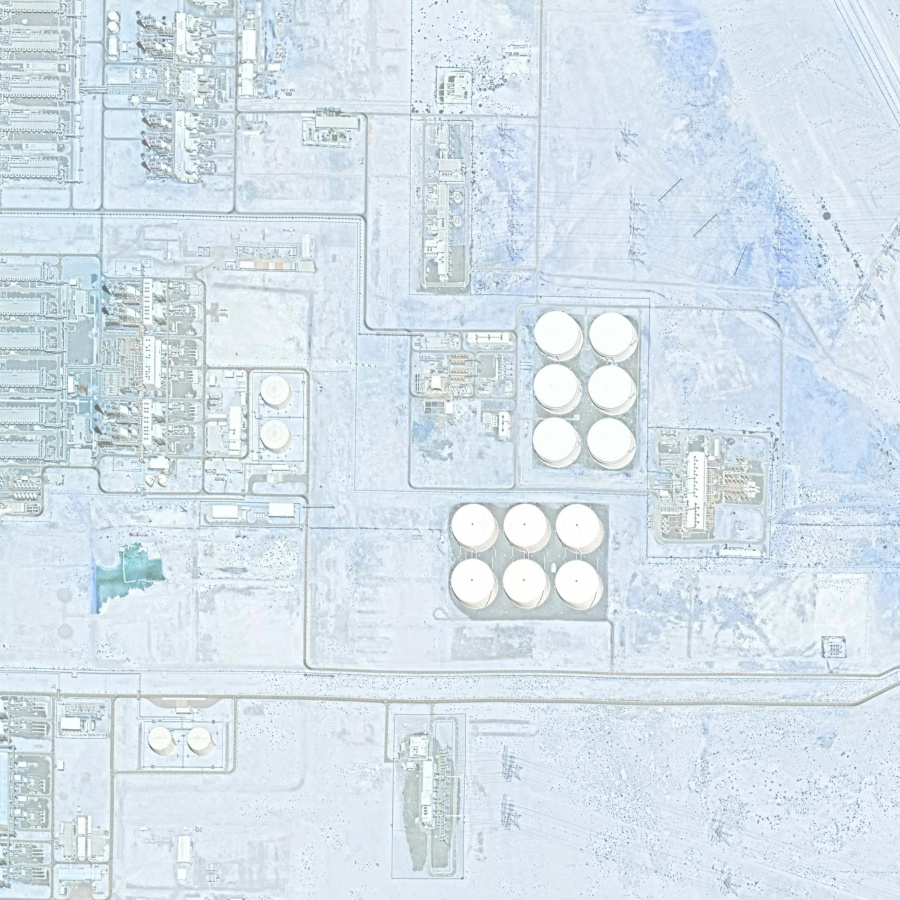PowerPlant: (388, 278, 768, 636)
